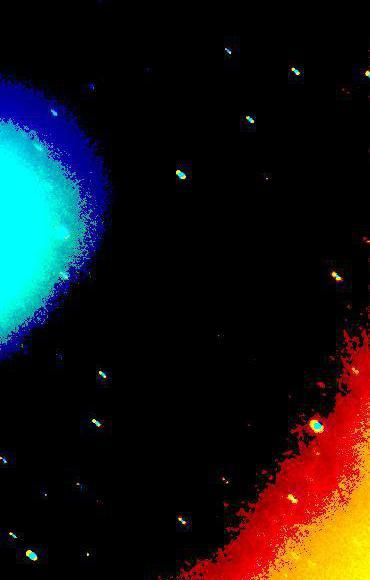star: (103, 535, 133, 565)
